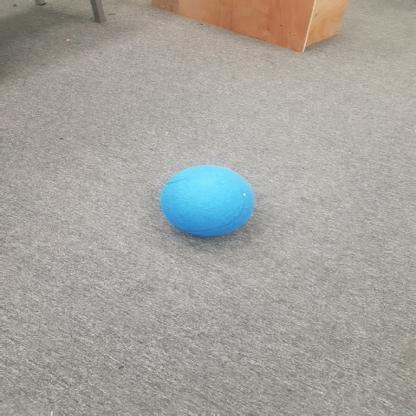ball: (144, 150, 276, 250)
